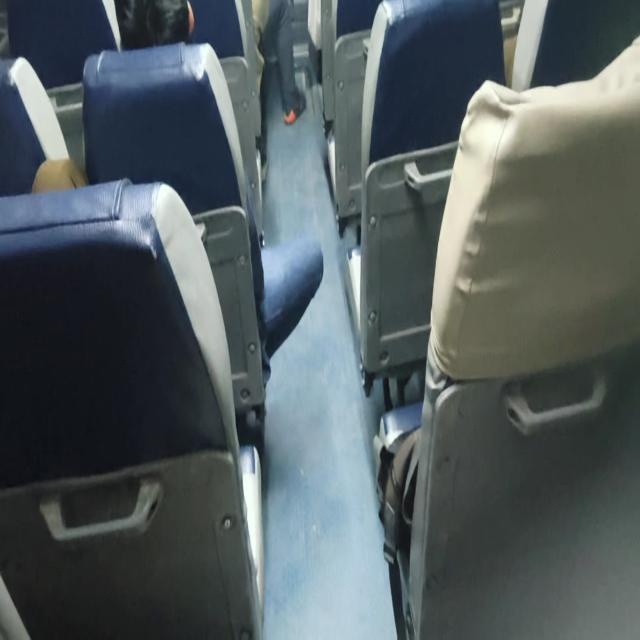person: (116, 0, 198, 65)
